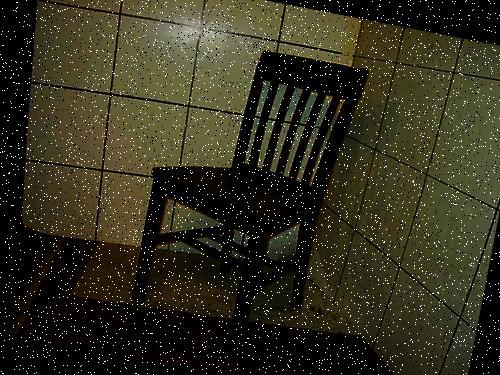Silla: (127, 32, 370, 365)
